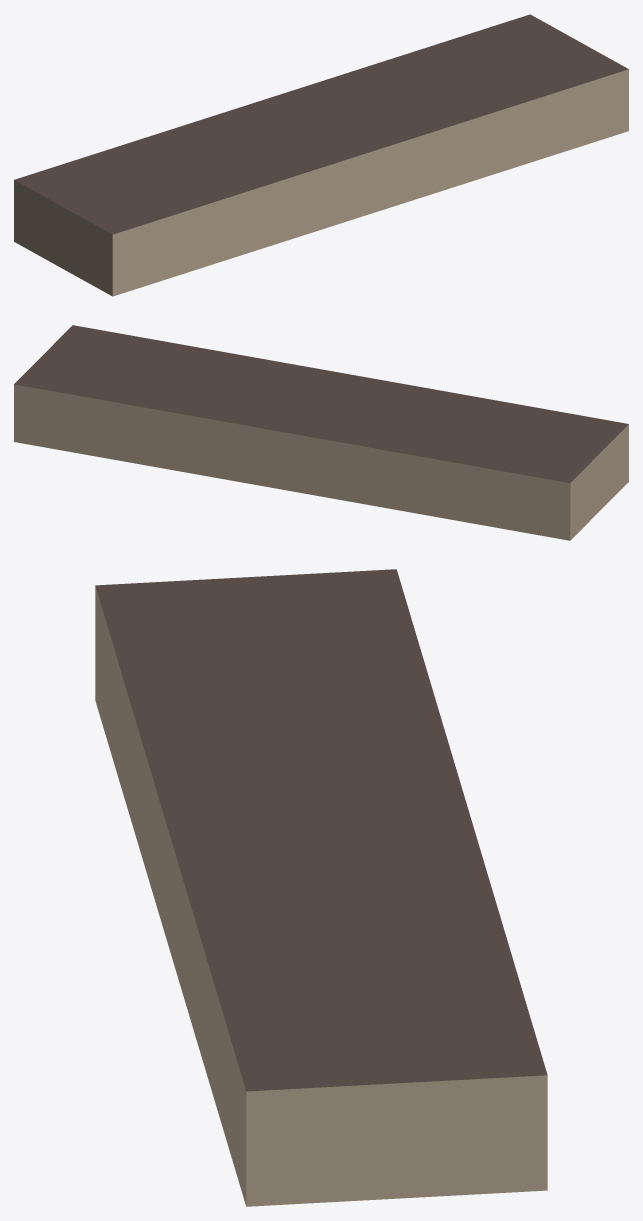
The picture shows the model from 3 angles, top to bottom: view 1: azimuth 30°, elevation 25°; view 2: azimuth 150°, elevation 25°; view 3: azimuth 270°, elevation 25°; orthographic projection. The views are drawn at different scales.
Parts seen in each view (by area): view 1: HP-w446959044; view 2: HP-w446959044; view 3: HP-w446959044.
Boxes of the visible parts, bbox=[...] form: HP-w446959044: bbox=[14, 14, 628, 296]; HP-w446959044: bbox=[14, 325, 628, 540]; HP-w446959044: bbox=[95, 569, 547, 1206].
Bounding box in the file's own units: 58.3 × 6 × 21.33.
